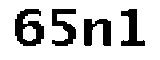1: (117, 5, 149, 52)
5: (46, 5, 78, 51)
6: (11, 4, 46, 52)
n: (81, 14, 114, 52)
